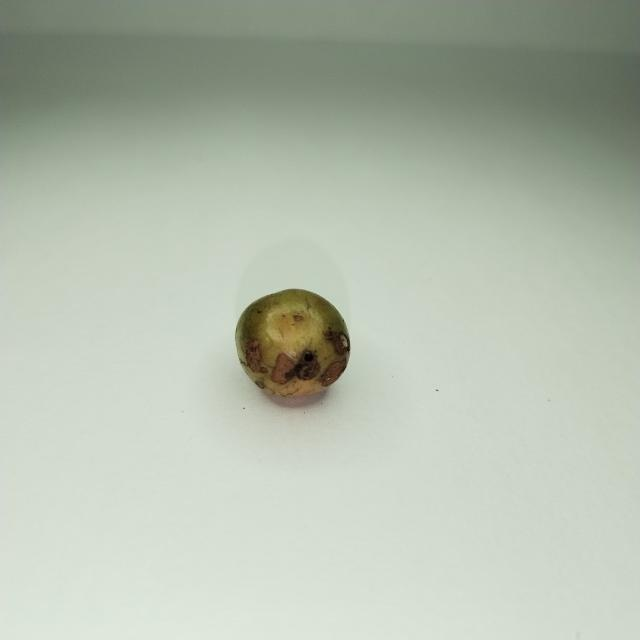Infectado: (235, 289, 350, 404)
